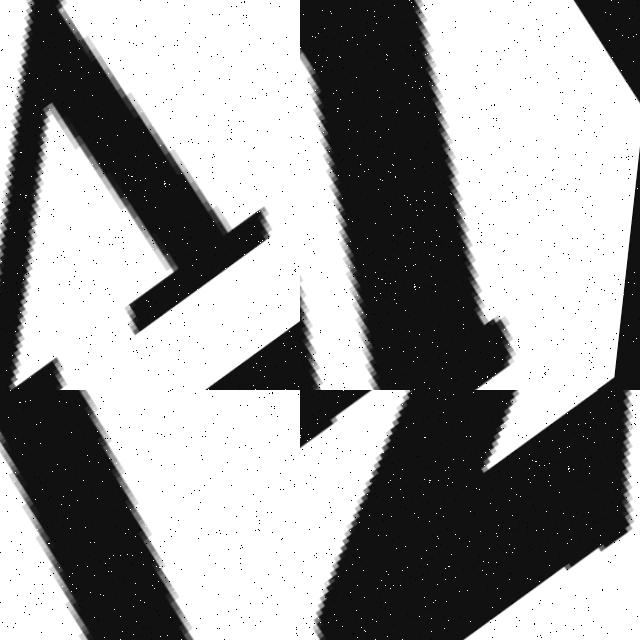L: (0, 390, 300, 640)
U: (300, 0, 640, 390)
Y: (0, 0, 300, 390)
Z: (300, 390, 640, 640)
